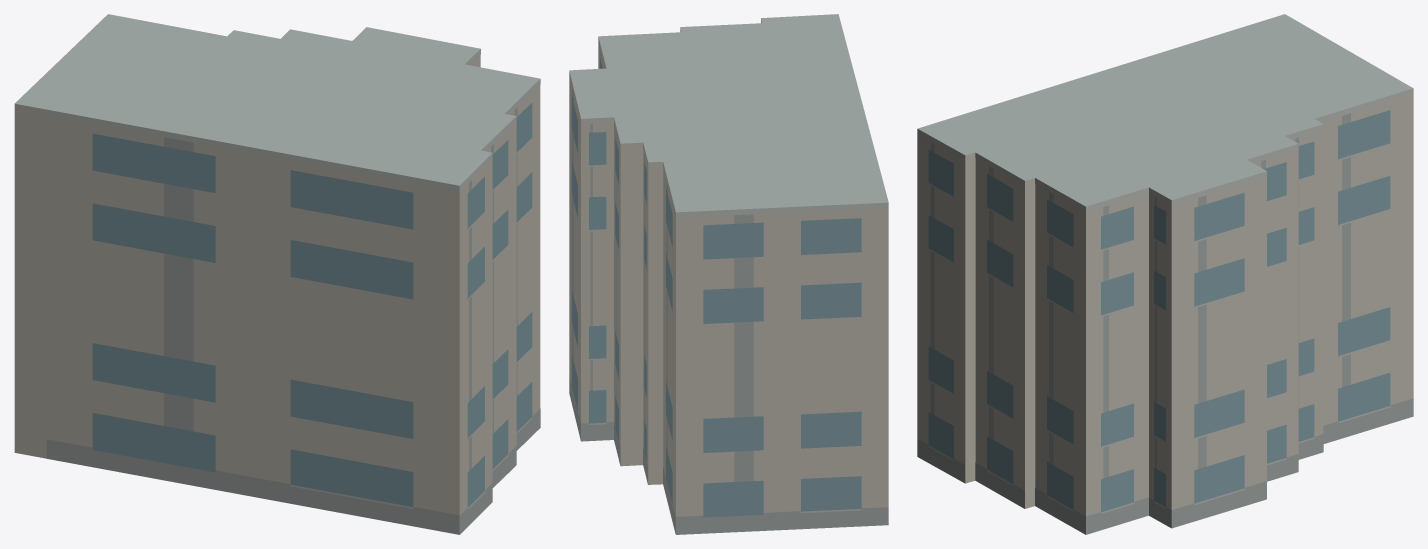
Rendered from survey-upis-32689840.glb.
3 views of the same model, side by side, from view 1: azimuth 30°, elevation 25°; view 2: azimuth 150°, elevation 25°; view 3: azimuth 270°, elevation 25° (orthographic). The views are drawn at different scales.
Visible parts, largest first — view 1: survey-upis-32689840.tmp; view 2: survey-upis-32689840.tmp; view 3: survey-upis-32689840.tmp.
Boxes of the visible parts, x1,y1,x2,y2 form: survey-upis-32689840.tmp: [14, 14, 540, 534]; survey-upis-32689840.tmp: [569, 14, 888, 534]; survey-upis-32689840.tmp: [917, 14, 1413, 534].
Bounding box in the file's own units: 17.89 × 14.2 × 19.47.
